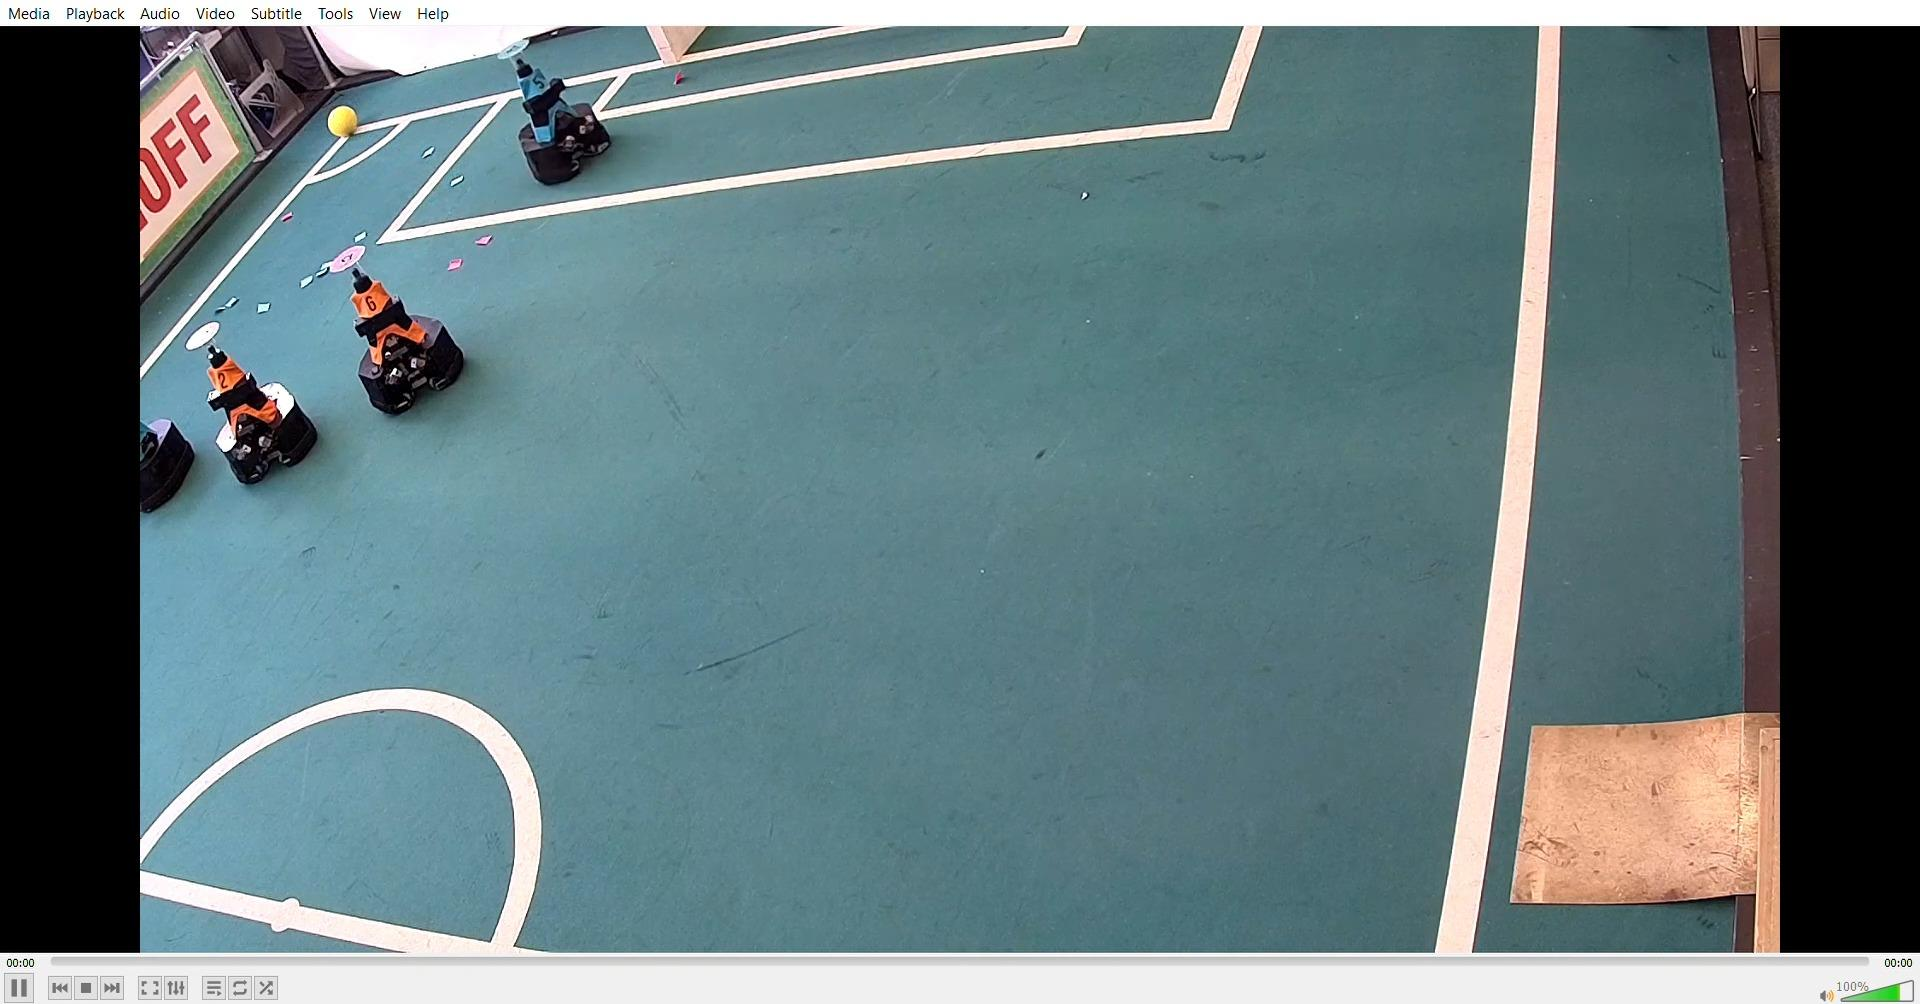Ball: (334, 104, 368, 136)
Team_Blue: (498, 43, 620, 193)
Team_Red: (323, 234, 469, 413), (182, 315, 323, 486)
